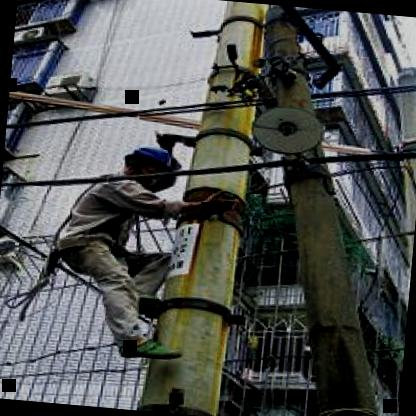helmet: (115, 133, 179, 187)
